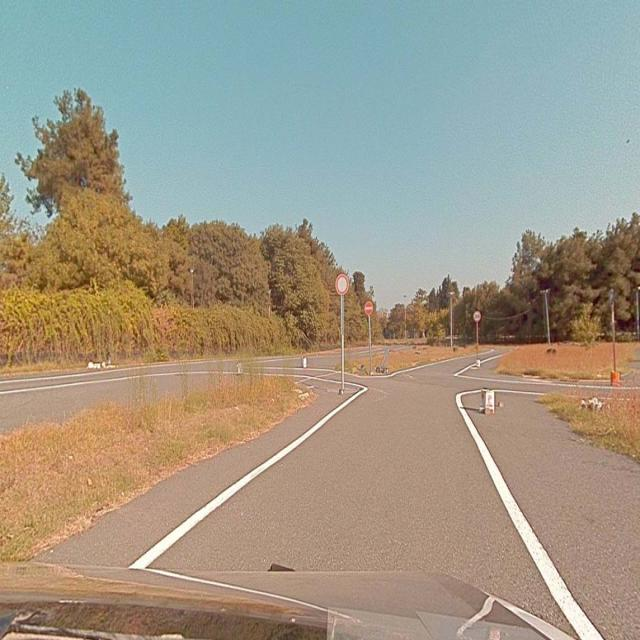girisyok: (364, 301, 373, 315)
